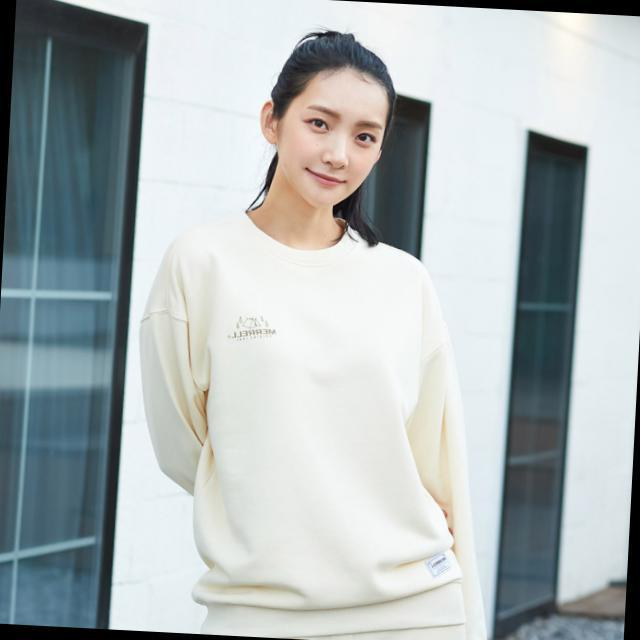sweater: (133, 203, 489, 639)
